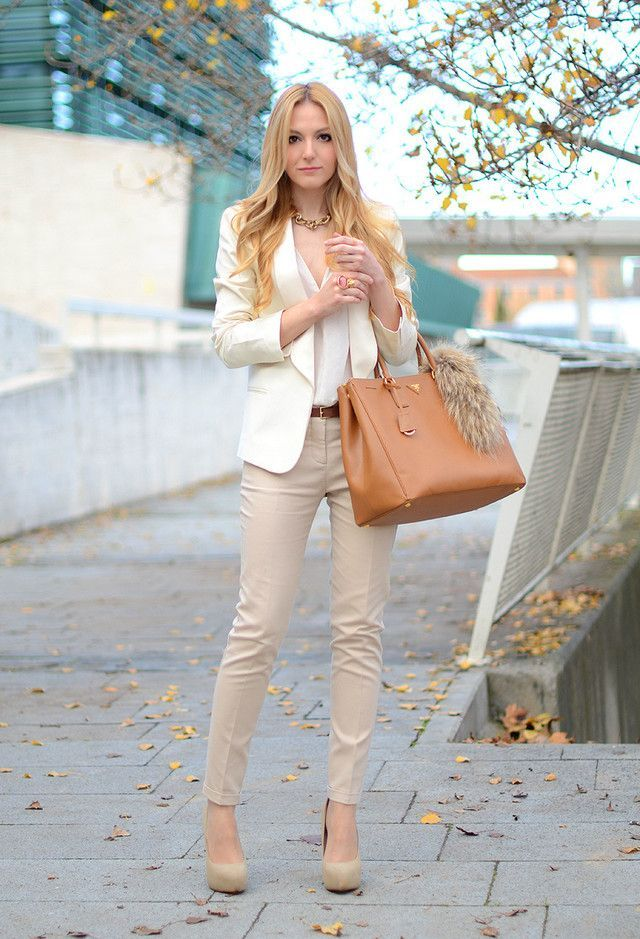F_W_suit jacket: (195, 197, 423, 469)
